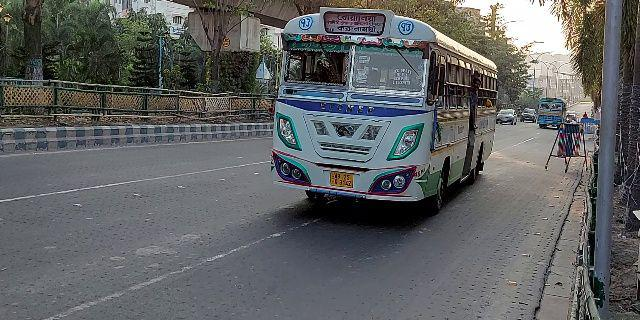Bus: (270, 7, 497, 214), (535, 95, 565, 132)
Car: (496, 106, 519, 131), (521, 103, 537, 126)
